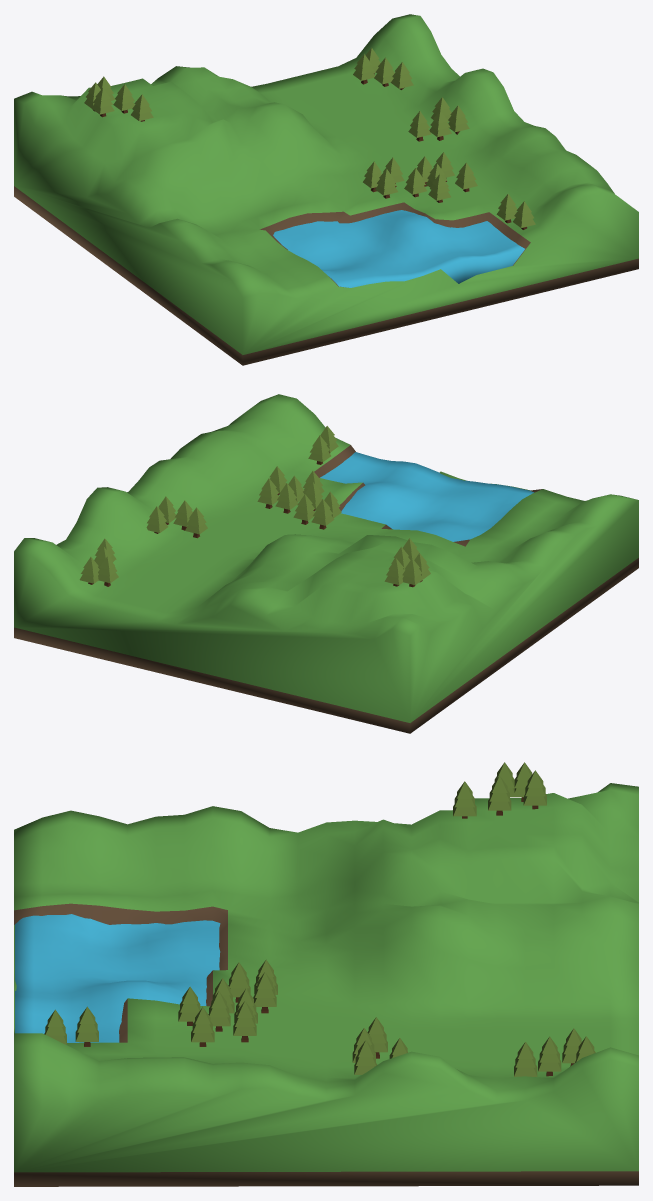
Rendered from Terrain 1.fbx.
The picture shows the model from 3 angles, top to bottom: view 1: azimuth 30°, elevation 25°; view 2: azimuth 150°, elevation 25°; view 3: azimuth 270°, elevation 25°; orthographic projection. The views are drawn at different scales.
Visible parts, largest first — view 1: Cube, Cube.001; view 2: Cube, Cube.001; view 3: Cube, Cube.001.
Boxes of the visible parts, bbox=[...] form: Cube: bbox=[14, 14, 638, 365]; Cube.001: bbox=[84, 47, 535, 229]; Cube: bbox=[14, 394, 638, 733]; Cube.001: bbox=[79, 426, 430, 587]; Cube: bbox=[14, 783, 638, 1186]; Cube.001: bbox=[44, 762, 595, 1076].
Size of the model in its own units: 8.59 by 2.84 by 8.59.
